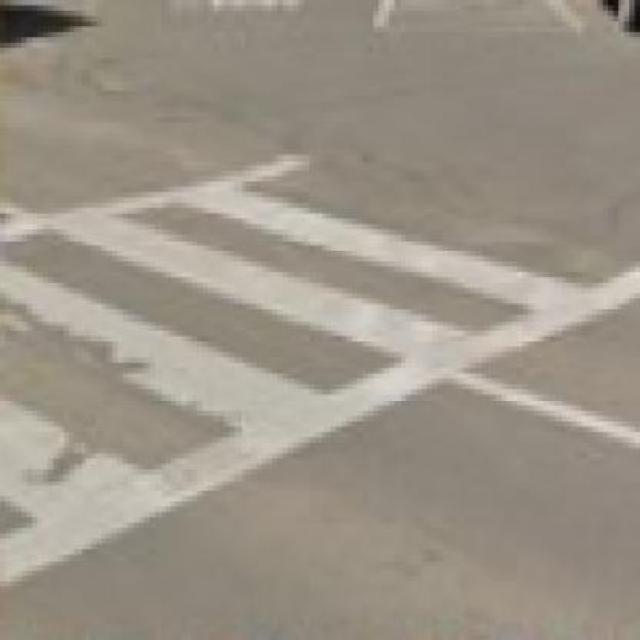crosswalk: (4, 182, 612, 583)
